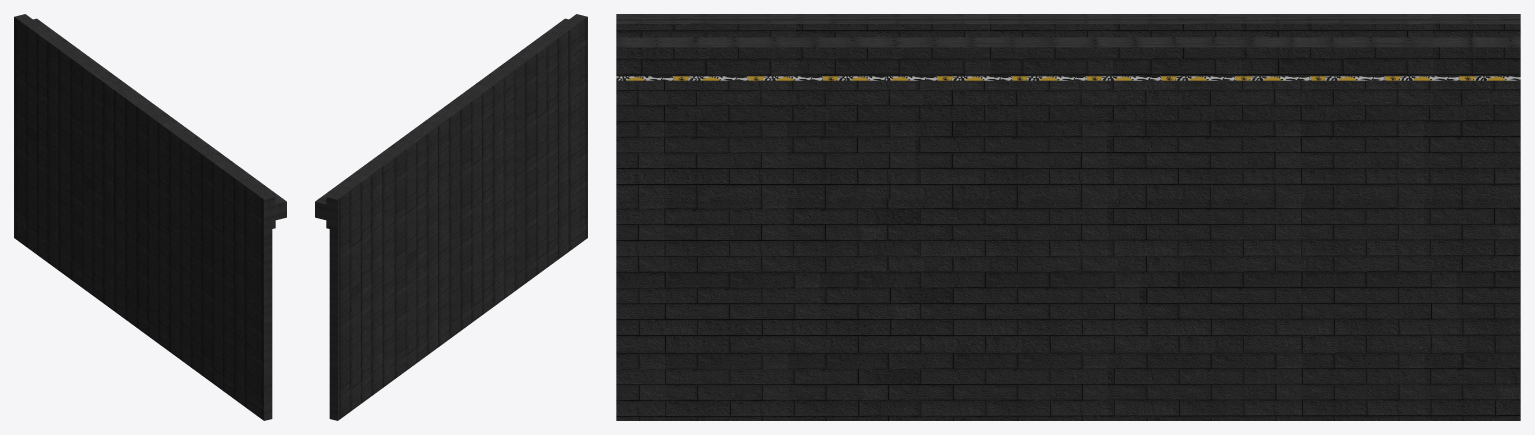
File: WallV6.fbx
The picture shows the model from 3 angles, left to right: view 1: azimuth 30°, elevation 25°; view 2: azimuth 150°, elevation 25°; view 3: azimuth 270°, elevation 25°; orthographic projection. The views are drawn at different scales.
Visible parts, largest first — view 1: cafe_wall31; view 2: cafe_wall31; view 3: cafe_wall31.
Boxes of the visible parts, <box> form: cafe_wall31: <box>14,14,286,420</box>; cafe_wall31: <box>315,14,587,420</box>; cafe_wall31: <box>616,14,1520,420</box>.
Bounding box in the file's own units: 63.22 × 584 × 1196.
